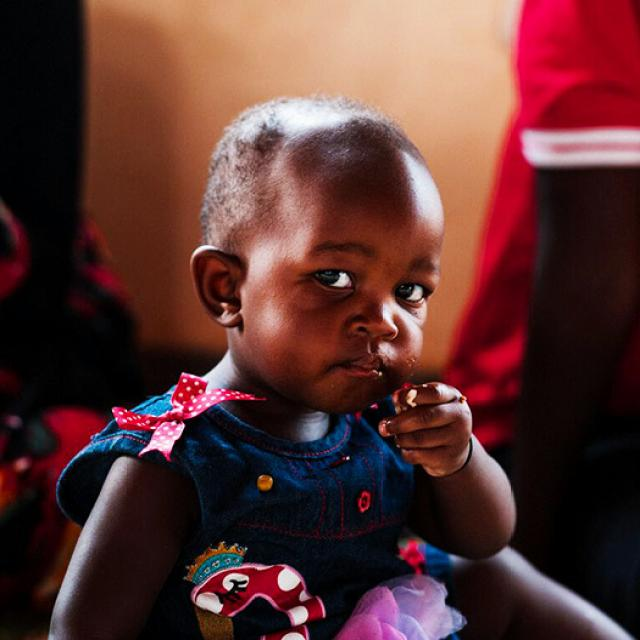child: (42, 92, 524, 640)
